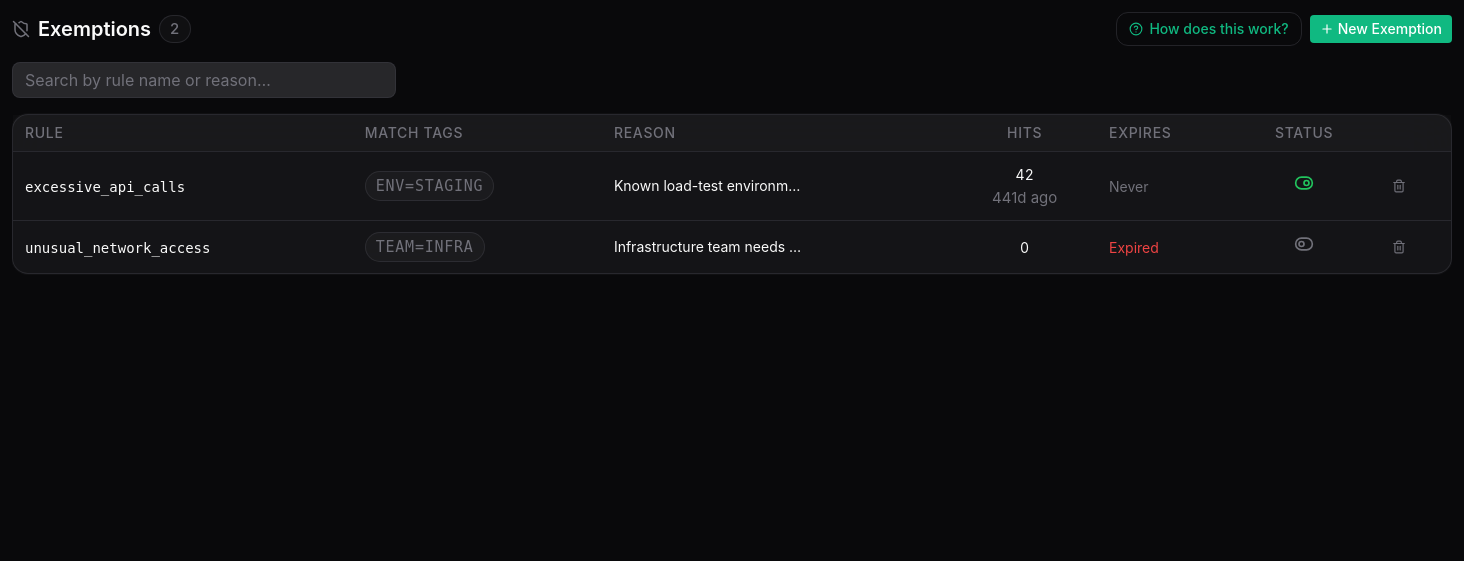
Scenario: ExemptionsPage › validates empty rule name on create
The width and height of the screenshot is (1464, 561).
Click the button "New Exemption": (1381, 29) [1310, 15, 1452, 43]
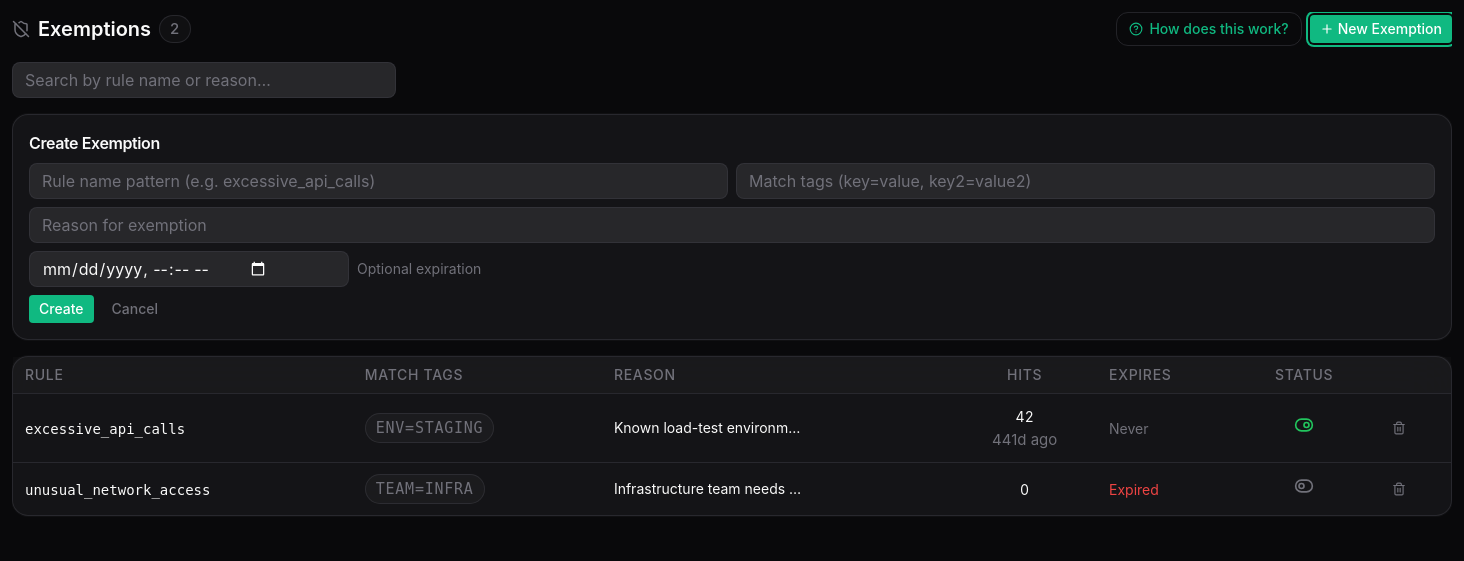
Click the button "Create": (61, 309) [29, 295, 94, 323]
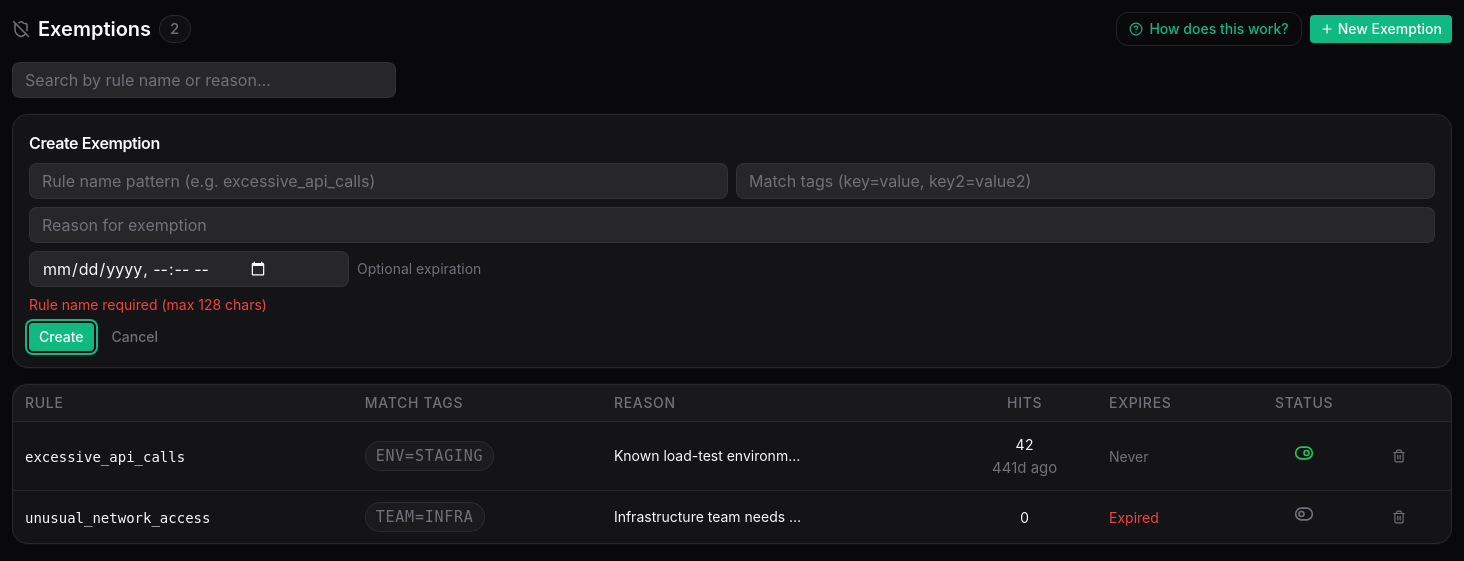
Now the message shows "Rule name required", box [29, 296, 267, 313]
